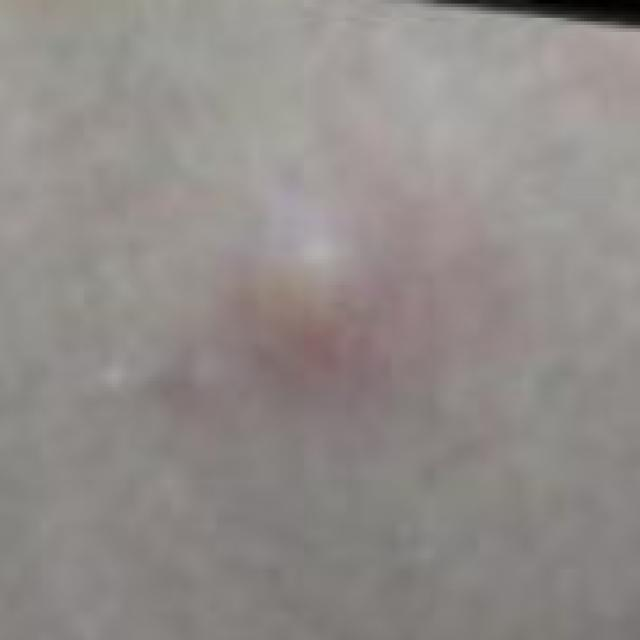nodule: (224, 219, 405, 389)
